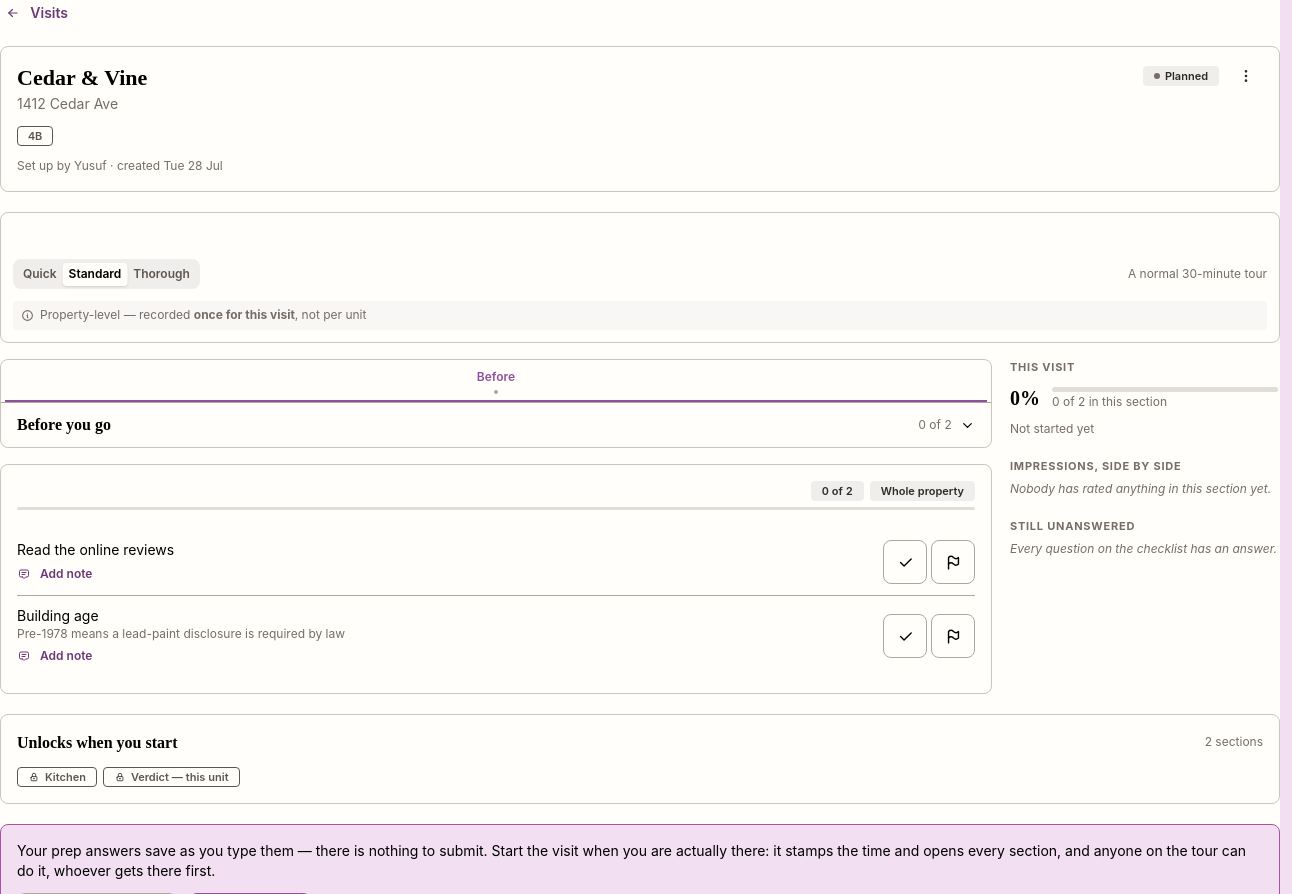
it: VisitDetailPage lifecycle › puts cancel and delete behind the actions menu, not in the open
Click the button named "Visit actions".
click(1246, 76)  # box [1229, 63, 1263, 89]
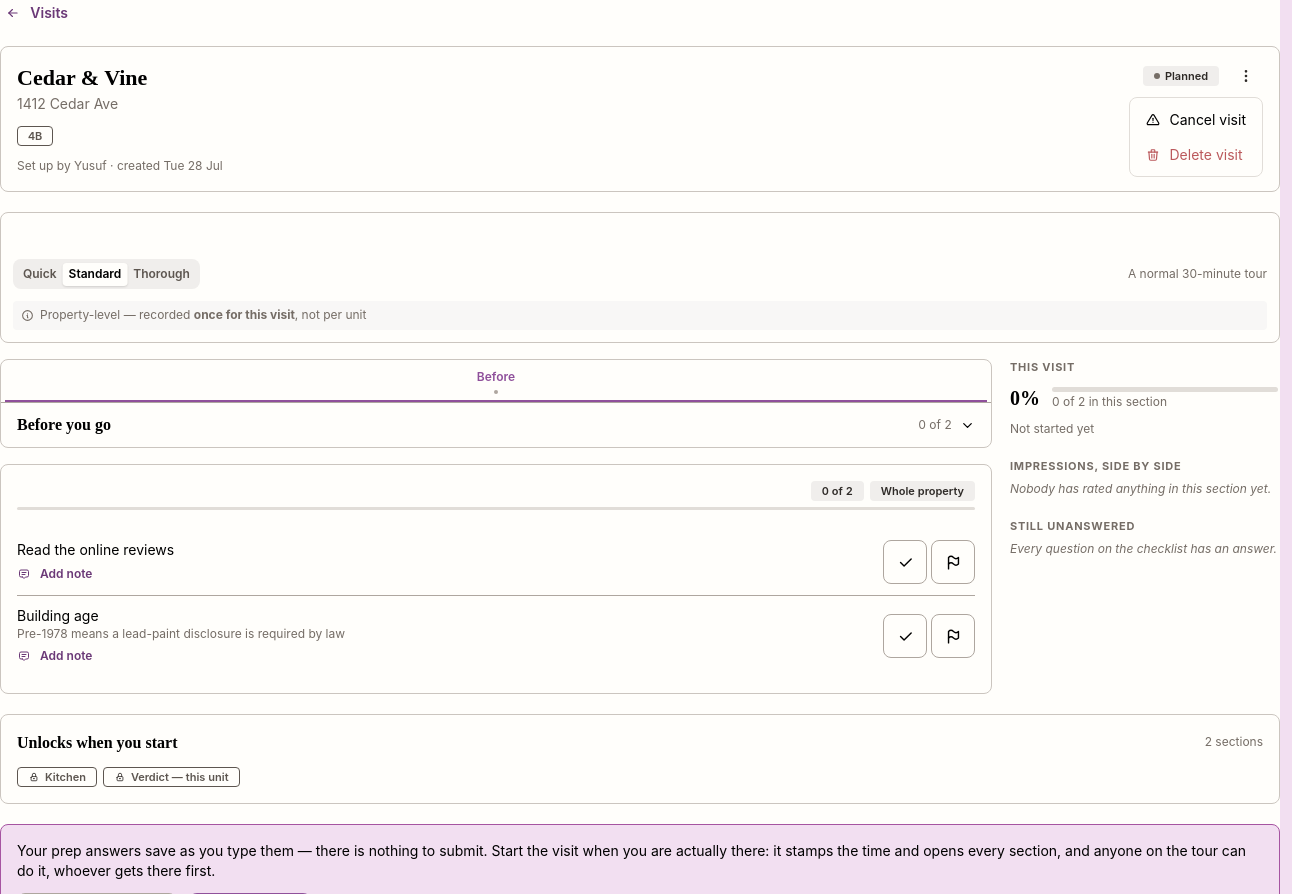
expect the menu item "Cancel visit" is shown: met, box [1134, 102, 1258, 137]
expect the menu item "Delete visit" is shown: met, box [1134, 137, 1258, 172]
